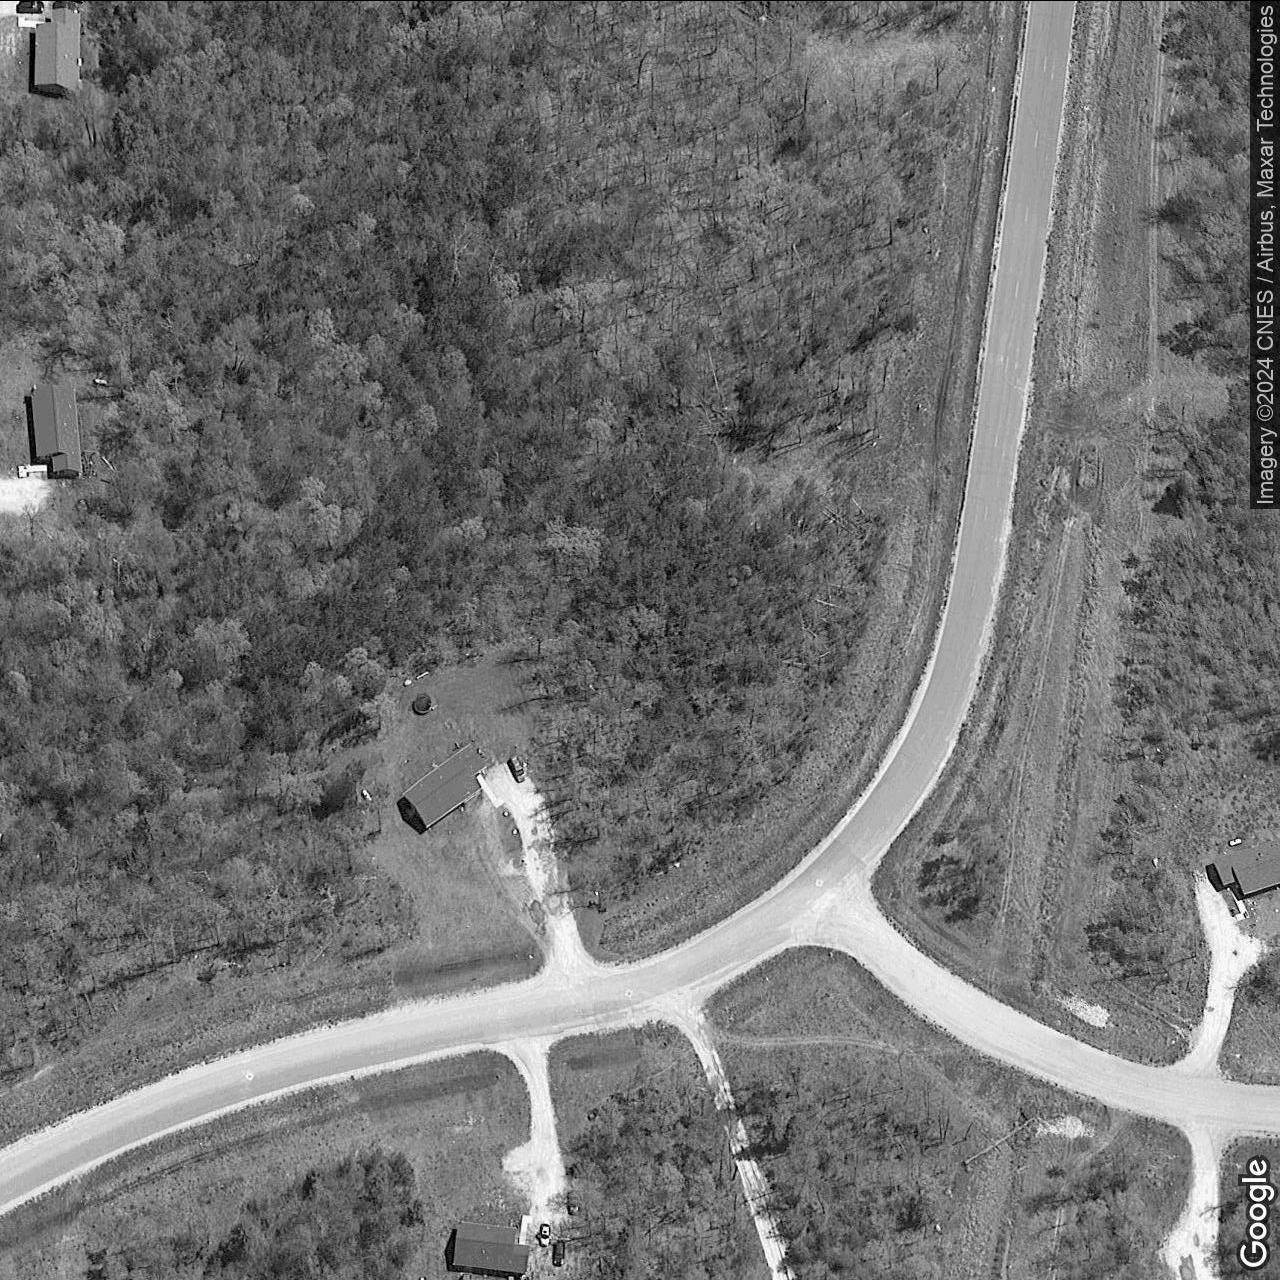House: (400, 740, 489, 829), (30, 383, 81, 474), (452, 1221, 532, 1274), (34, 7, 81, 94), (1212, 838, 1280, 897)
Propane: (359, 785, 375, 804), (1226, 836, 1244, 847), (91, 377, 109, 386)
